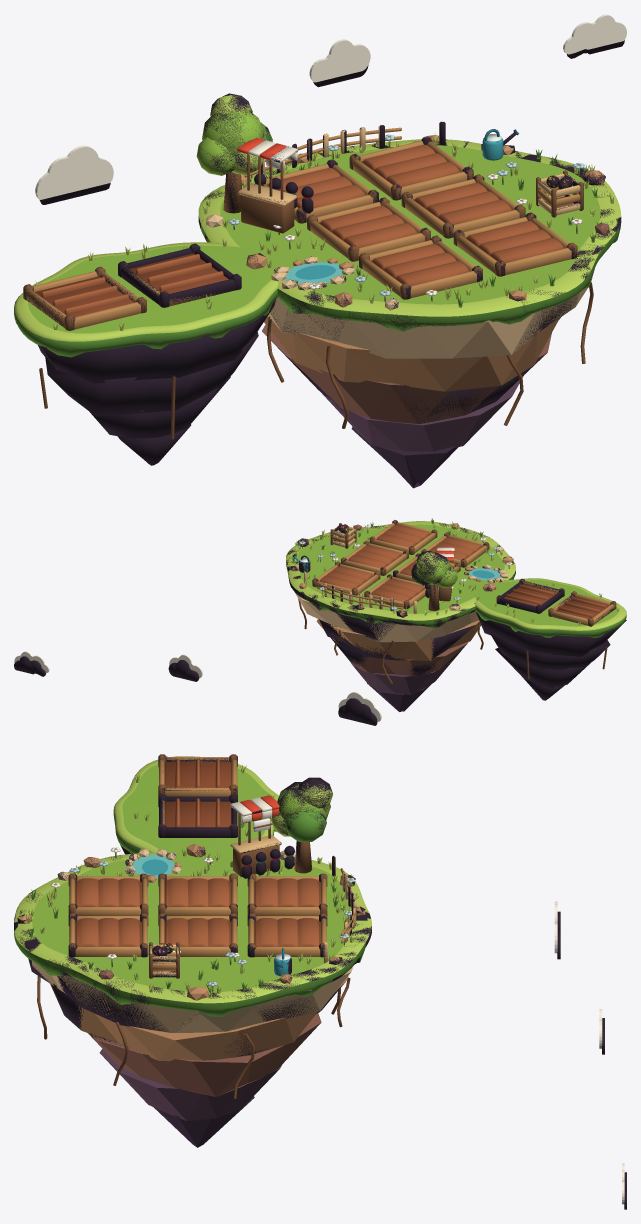
The model's file is garden.glb.
3 renders of one model, top to bottom at view 1: azimuth 30°, elevation 25°; view 2: azimuth 150°, elevation 25°; view 3: azimuth 270°, elevation 25°, orthographic. The views are drawn at different scales.
Parts seen in each view (by area): view 1: environment.grass.1, chunk-west-outline-60, environment.soil.0, chunk-west-grass, environment.wood-crate.1, environment.grass.0, environment.island-rock.1, environment.island-rock.0, environment.island-rock.2, outline-60, outline-35, environment.wood-crate.2 (+14 smaller); view 2: chunk-west-outline-60, environment.grass.1, chunk-west-grass, outline-60, environment.soil.0, environment.grass.0, environment.wood-crate.1, environment.island-rock.0, environment.island-rock.1, outline-35, environment.island-rock.2, environment.wood-crate.2 (+11 smaller); view 3: environment.grass.1, environment.soil.0, environment.grass.0, environment.wood-crate.1, environment.island-rock.1, outline-60, environment.island-rock.0, chunk-west-grass, environment.island-rock.2, environment.grass.2, outline-35, environment.island-rock.3 (+8 smaller).
Boxes of the visible parts, x1,y1,x2,y2 form: environment.grass.1: (196, 111, 600, 304); chunk-west-outline-60: (38, 299, 276, 465); environment.soil.0: (268, 144, 564, 285); chunk-west-grass: (14, 242, 280, 357); environment.wood-crate.1: (244, 127, 580, 298); environment.grass.0: (198, 95, 621, 316); environment.island-rock.1: (233, 135, 605, 391); environment.island-rock.0: (206, 214, 593, 358); environment.island-rock.2: (262, 223, 609, 423); outline-60: (198, 139, 621, 423); outline-35: (199, 93, 607, 309); environment.wood-crate.2: (223, 136, 593, 428); chunk-west-outline-60: (476, 612, 626, 700); environment.grass.1: (297, 524, 504, 613); chunk-west-grass: (473, 578, 626, 637); outline-60: (286, 523, 515, 676); environment.soil.0: (320, 524, 481, 601); environment.grass.0: (286, 521, 515, 620); environment.wood-crate.1: (315, 522, 487, 609); environment.island-rock.0: (289, 546, 508, 642); environment.island-rock.1: (290, 523, 513, 660); outline-35: (290, 520, 511, 617); environment.island-rock.2: (316, 524, 468, 676); environment.wood-crate.2: (298, 520, 489, 683); environment.grass.1: (32, 783, 353, 992); environment.soil.0: (77, 878, 318, 946); environment.grass.0: (14, 783, 371, 1003); environment.wood-crate.1: (69, 868, 356, 969); environment.island-rock.1: (17, 844, 365, 1061); outline-60: (14, 855, 371, 1057); environment.island-rock.0: (32, 849, 353, 1032); chunk-west-grass: (113, 756, 278, 862); environment.island-rock.2: (88, 970, 321, 1096); environment.grass.2: (14, 811, 365, 1016); outline-35: (17, 777, 365, 983); environment.island-rock.3: (99, 1049, 281, 1121).
Bounding box in the file's own units: 18.94 × 7.84 × 13.69.
